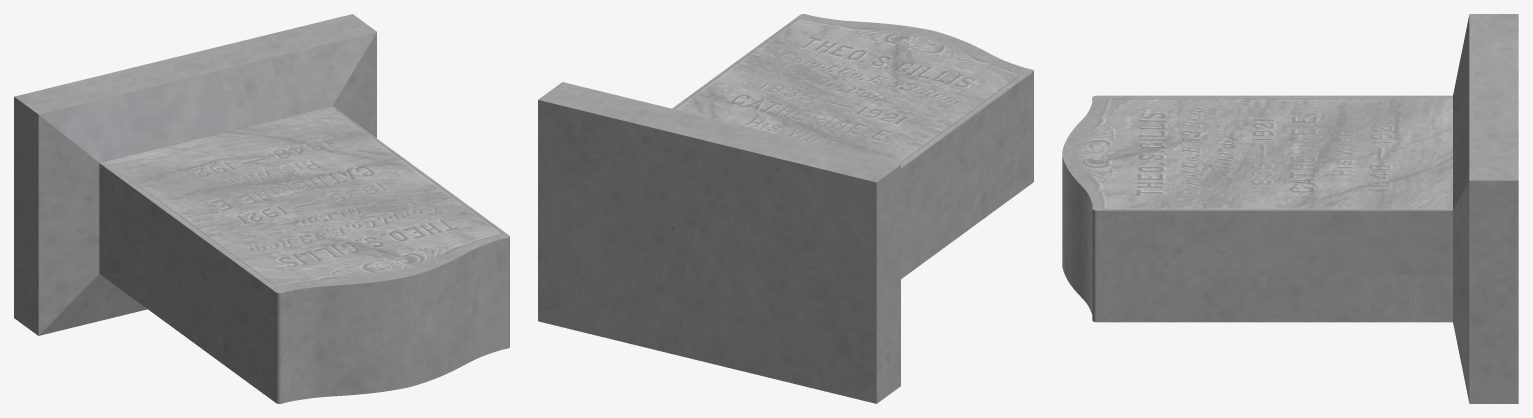
3 views of the same model, side by side, from view 1: azimuth 30°, elevation 25°; view 2: azimuth 150°, elevation 25°; view 3: azimuth 270°, elevation 25° (orthographic).
Visible parts, largest first — view 1: PA-233-F_LOD0; view 2: PA-233-F_LOD0; view 3: PA-233-F_LOD0.
Part boxes in pixels (x1=…): PA-233-F_LOD0: x1=14, y1=14, x2=509, y2=403; PA-233-F_LOD0: x1=538, y1=14, x2=1033, y2=403; PA-233-F_LOD0: x1=1062, y1=14, x2=1518, y2=403.
Size of what is drawn, in the model's own units: 60.96 by 38.1 by 70.57.
